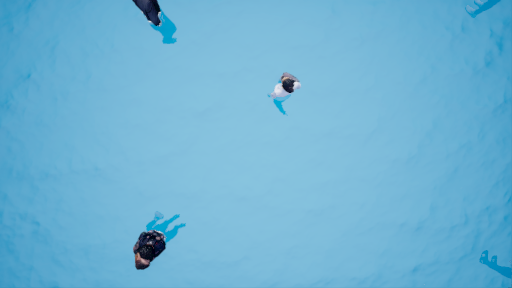person: (124, 212, 195, 271), (262, 71, 309, 117)
